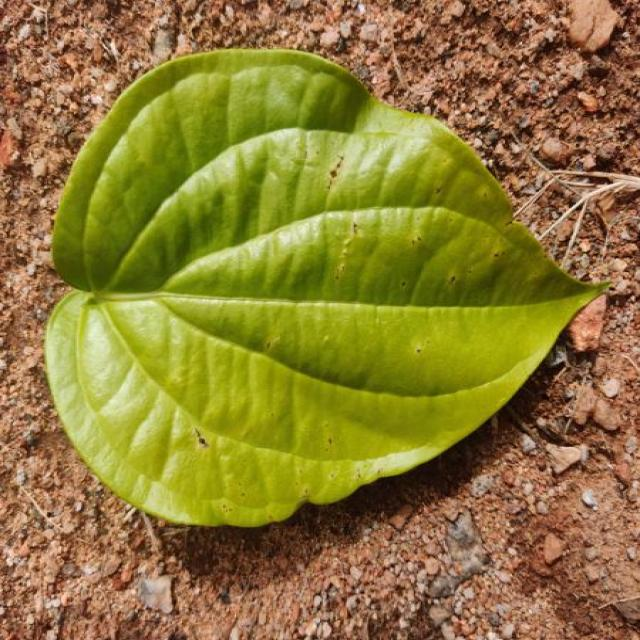betel: (45, 50, 605, 526)
